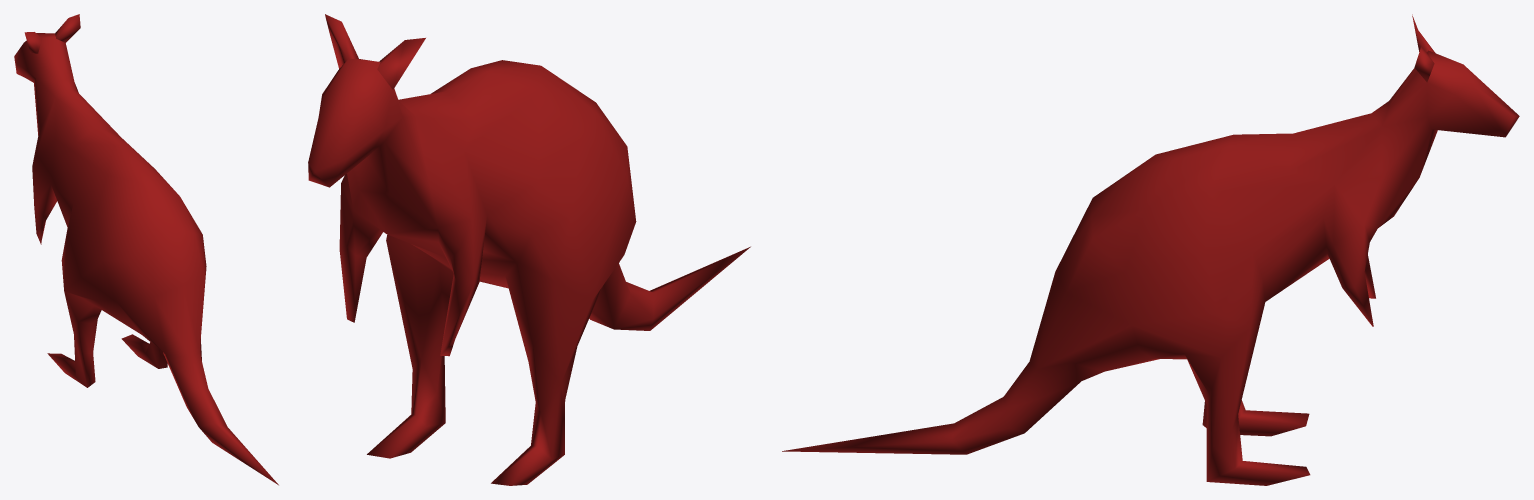
File: kangaroo.obj
The picture shows the model from 3 angles, left to right: view 1: azimuth 30°, elevation 25°; view 2: azimuth 150°, elevation 25°; view 3: azimuth 270°, elevation 25°; orthographic projection. The views are drawn at different scales.
Visible parts, largest first — view 1: Free+Pack+-+Lowpoly+Animal; view 2: Free+Pack+-+Lowpoly+Animal; view 3: Free+Pack+-+Lowpoly+Animal.
Part boxes in pixels (left/top/right/bottom): Free+Pack+-+Lowpoly+Animal: left=14, top=14, right=278, bottom=485; Free+Pack+-+Lowpoly+Animal: left=308, top=14, right=750, bottom=485; Free+Pack+-+Lowpoly+Animal: left=782, top=14, right=1519, bottom=485.
Bounding box in the file's own units: 0.653 × 1.6 × 2.52.
